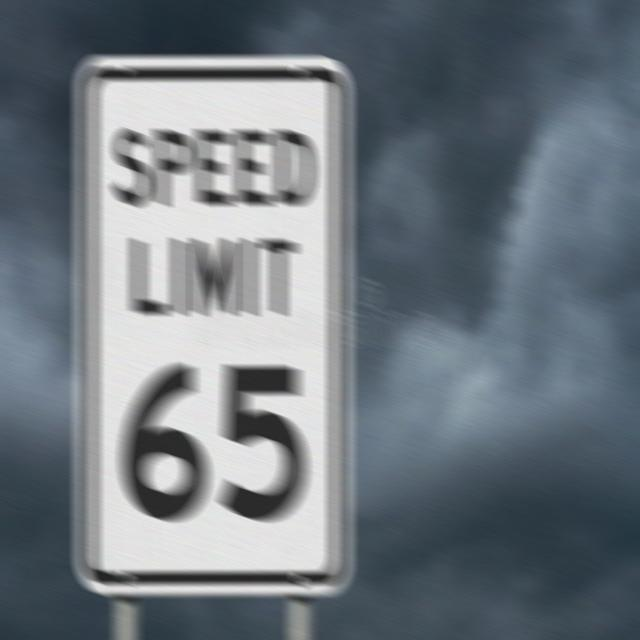speedLimit65: (75, 50, 347, 595)
